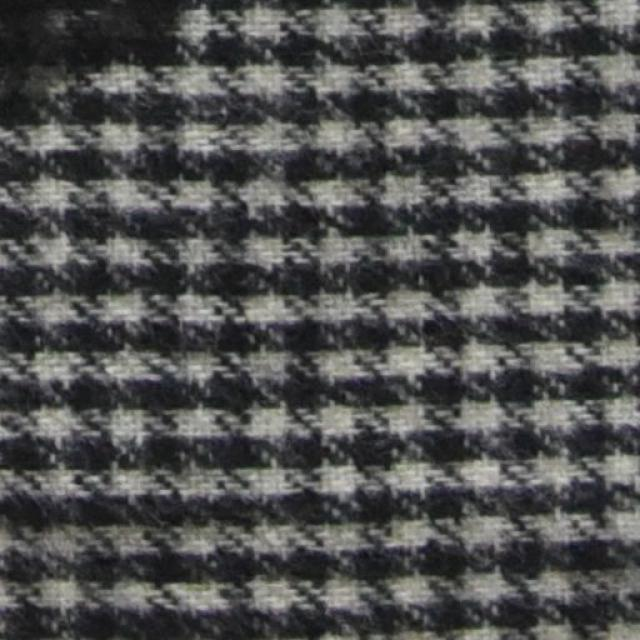Stain: (0, 0, 200, 126)
